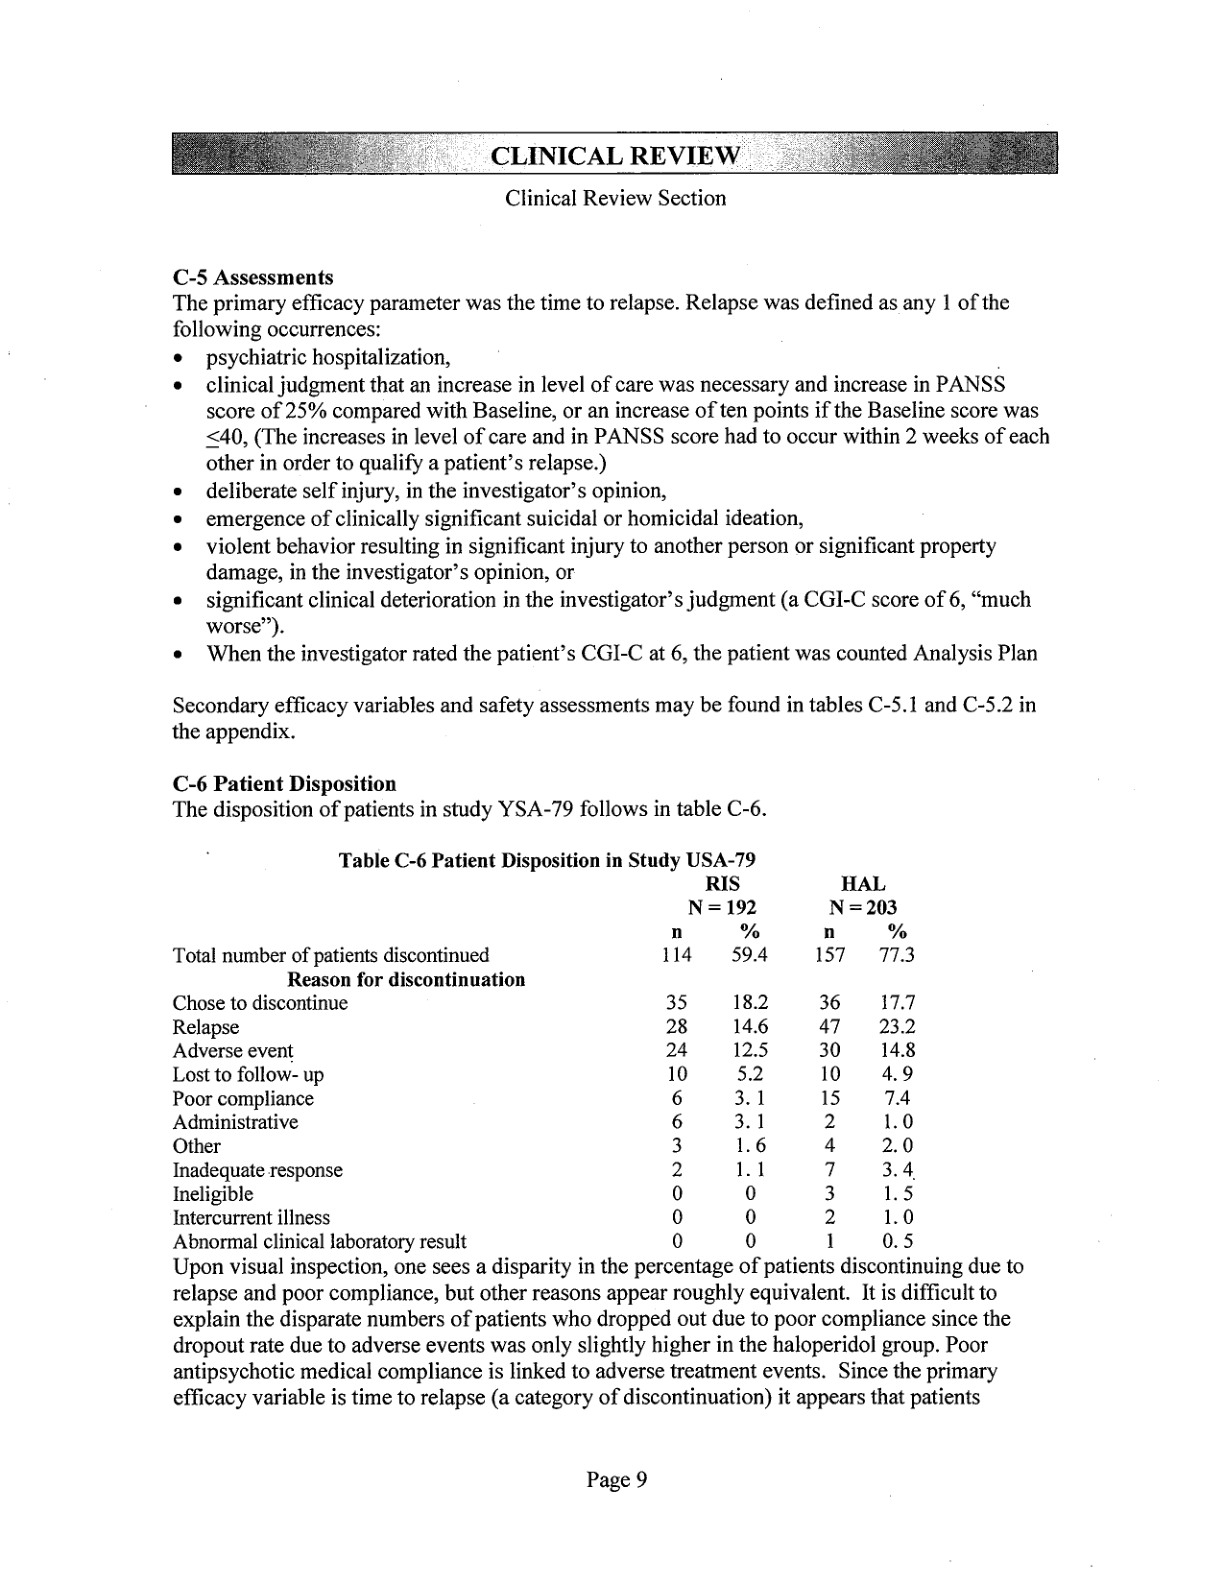nolines: (168, 872, 921, 1252)
